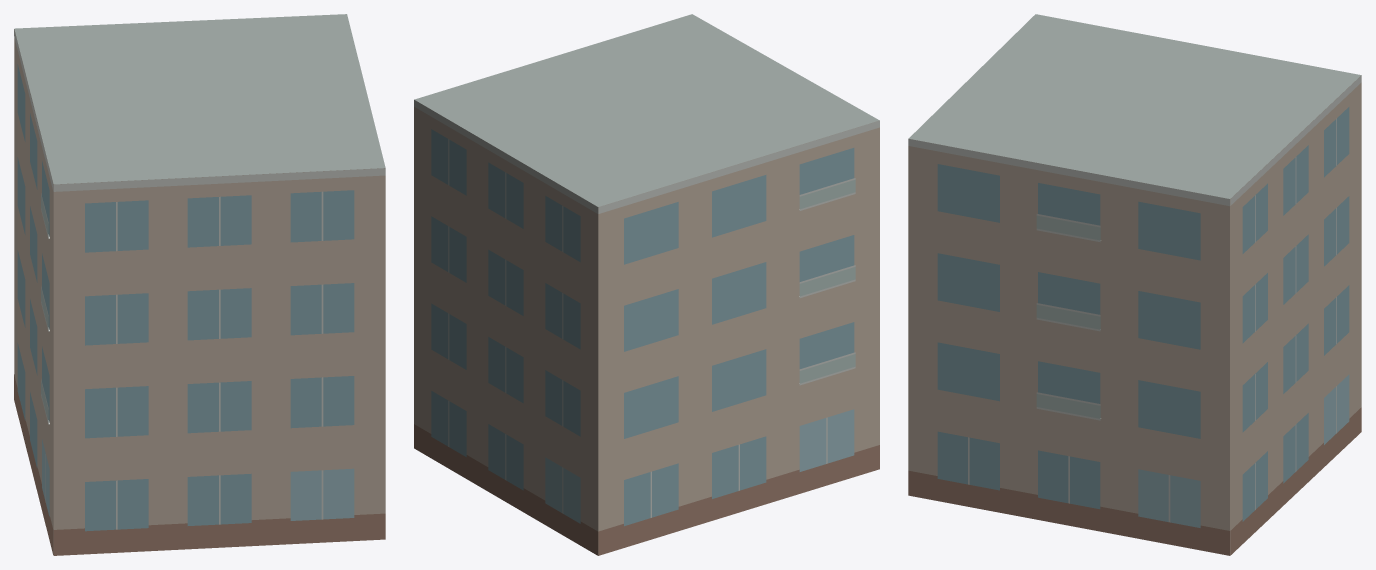
File: survey-upis-32526720.glb
3 renders of one model, left to right at view 1: azimuth 30°, elevation 25°; view 2: azimuth 150°, elevation 25°; view 3: azimuth 270°, elevation 25°, orthographic. The views are drawn at different scales.
Parts seen in each view (by area): view 1: survey-upis-32526720.tmp; view 2: survey-upis-32526720.tmp; view 3: survey-upis-32526720.tmp.
Part boxes in pixels (bbox=[...]): survey-upis-32526720.tmp: bbox=[14, 14, 385, 555]; survey-upis-32526720.tmp: bbox=[414, 14, 879, 555]; survey-upis-32526720.tmp: bbox=[908, 14, 1361, 555].
Size of the model in its own units: 13.47 by 12.1 by 13.94.
